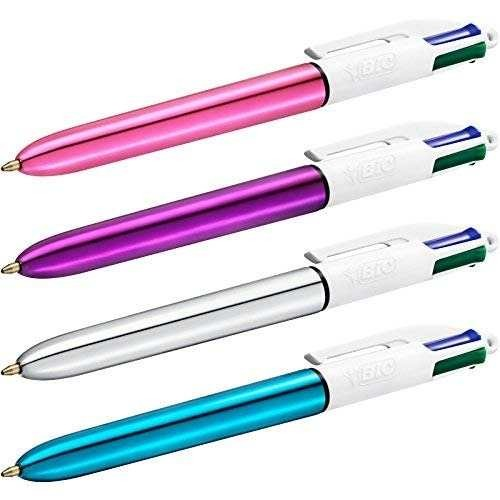Boligrafo: (2, 15, 500, 183), (3, 325, 500, 487), (2, 125, 500, 283), (2, 225, 500, 383)
